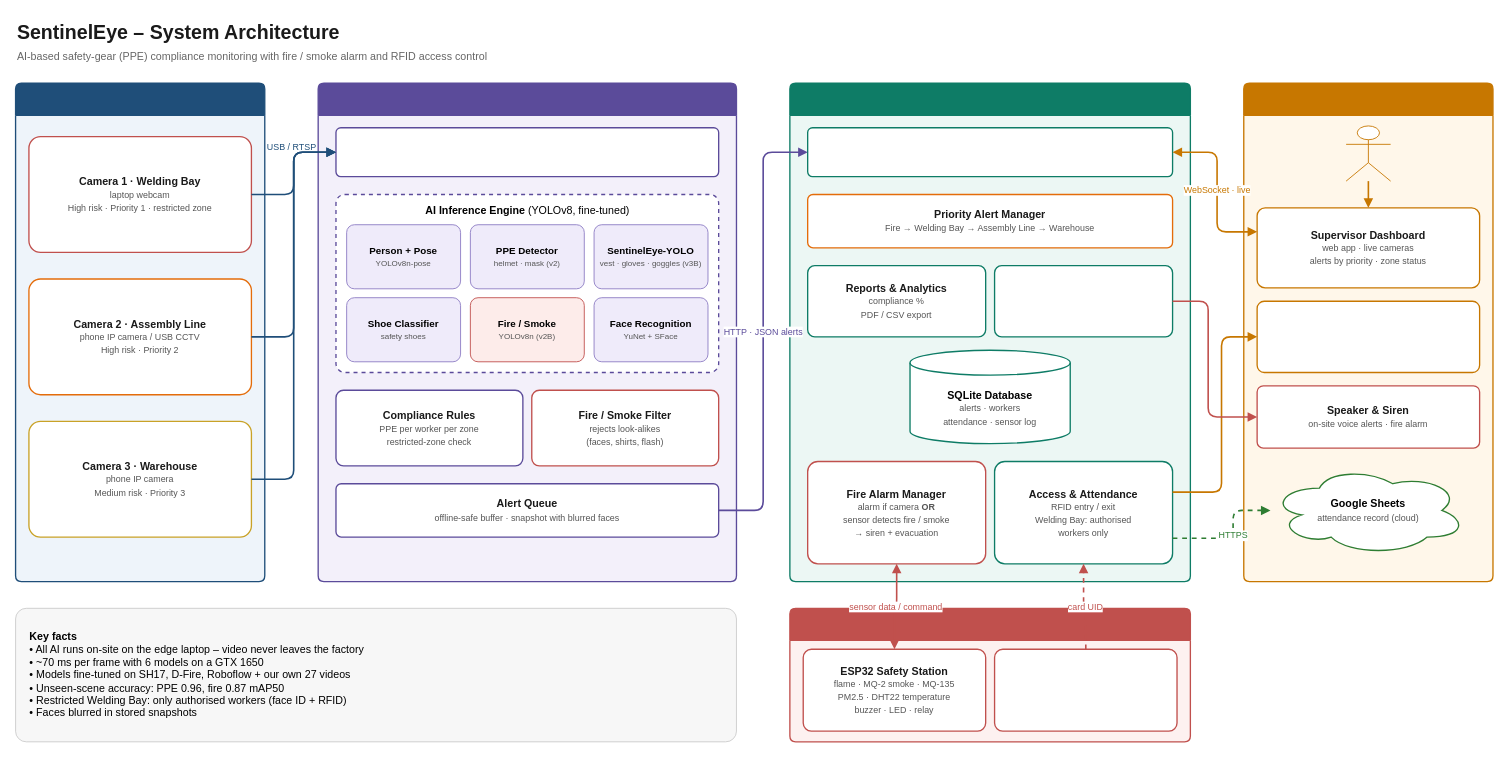
This 1509x757 diagram has some shape labels left out. The box of each missing label's shape, as (x1, y1, x2, y2) in pixels:
API Gateway REST + WebSocket: (807, 127, 1173, 177)
Backend Server (Python · FastAPI): (789, 82, 1191, 582)
Edge AI Unit (Laptop · NVIDIA GPU): (317, 82, 737, 582)
ESP32 RFID Reader RC522 · Welding Bay entrance · card tap: (994, 648, 1177, 731)
Field Cameras: (15, 82, 265, 582)
Hardware & Attendance Dashboard live sensors · entry / exit log: (1256, 300, 1480, 373)
IoT Devices (ESP32 · Wi-Fi): (789, 607, 1191, 742)
Supervisor: (1345, 125, 1391, 181)
Users & Outputs: (1243, 82, 1493, 582)
Video Ingest multi-camera streams · GPU priority by zone risk: (335, 127, 719, 177)
Voice & Siren Control calls worker by ID evacuation alarm: (994, 265, 1173, 337)
